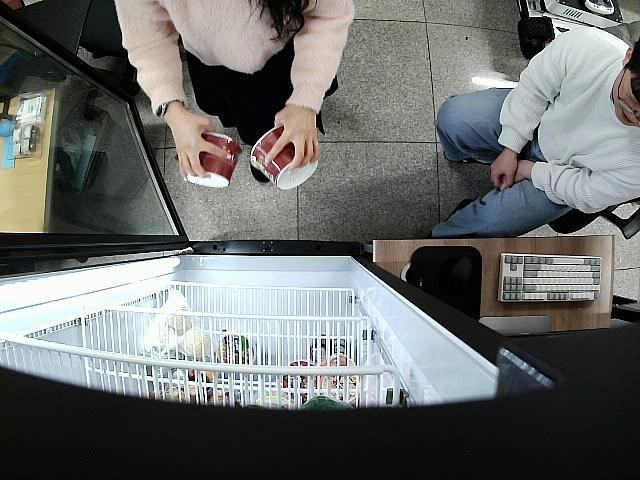00_hand: (170, 106, 232, 182), (265, 109, 321, 172)
05_nuguri_L: (249, 123, 319, 189), (186, 132, 242, 189)
